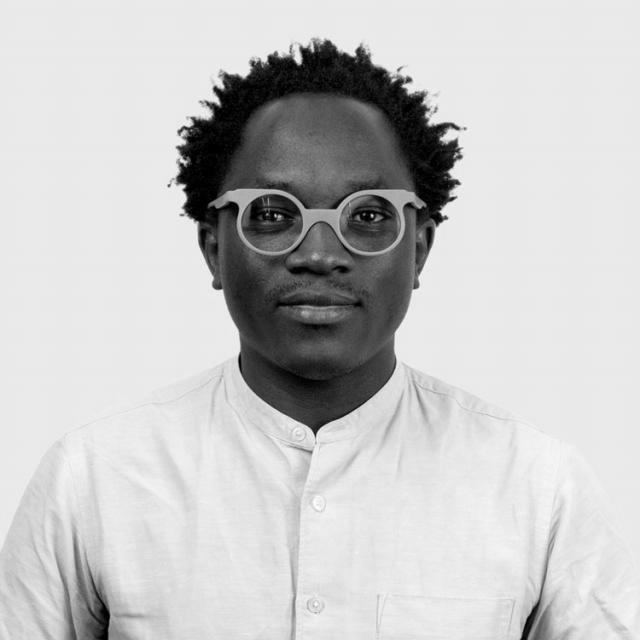real: (230, 116, 409, 378)
